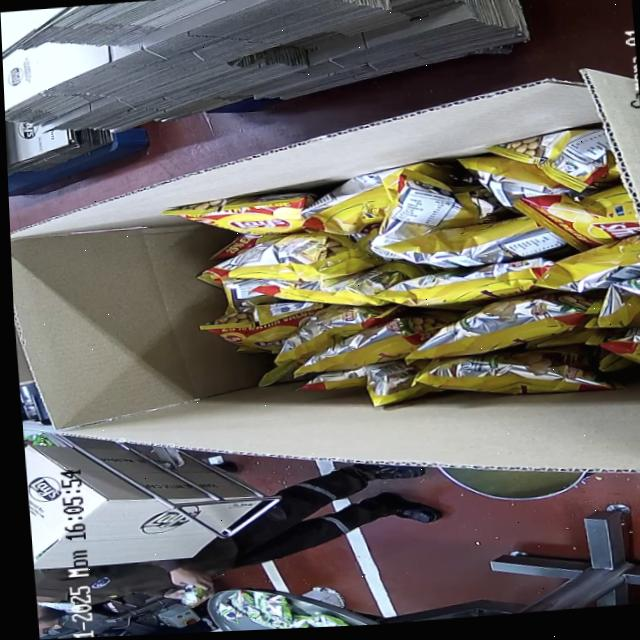SALTED: (185, 120, 640, 427)
